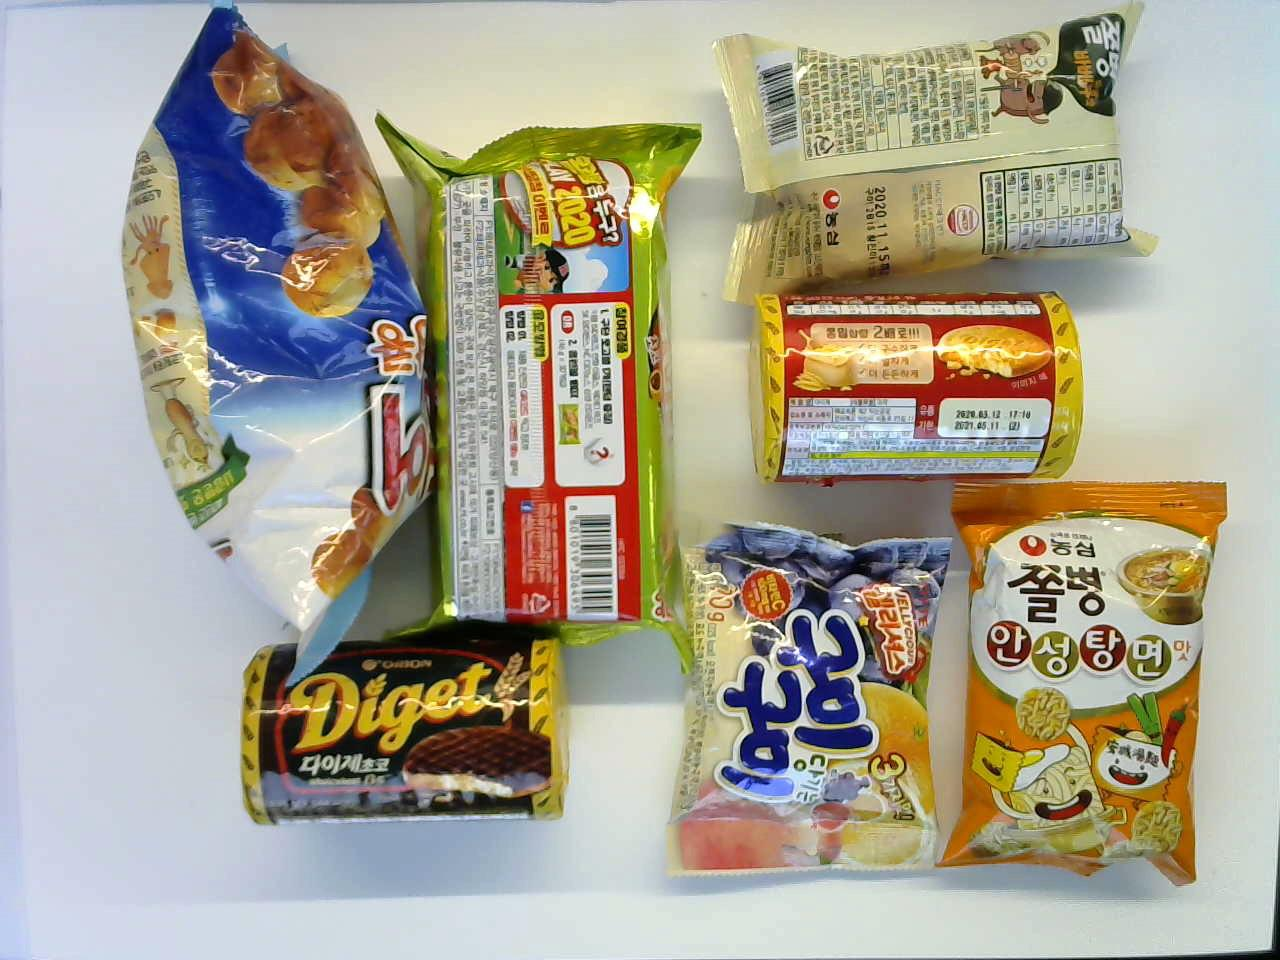diget_choco: (234, 633, 569, 828)
diget_ori: (748, 291, 1089, 475)
gumi_gumi: (661, 526, 959, 881)
homerunball: (425, 127, 702, 645)
jjolbyung_noodle: (949, 479, 1230, 886)
jjolbyung_ori: (709, 2, 1168, 290)
squid_peanut: (119, 9, 433, 664)
